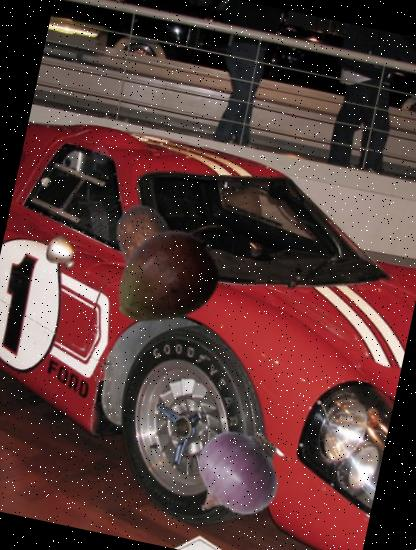Mango: (100, 214, 228, 343)
Nut: (90, 193, 210, 314)
Onion: (179, 419, 293, 533)
